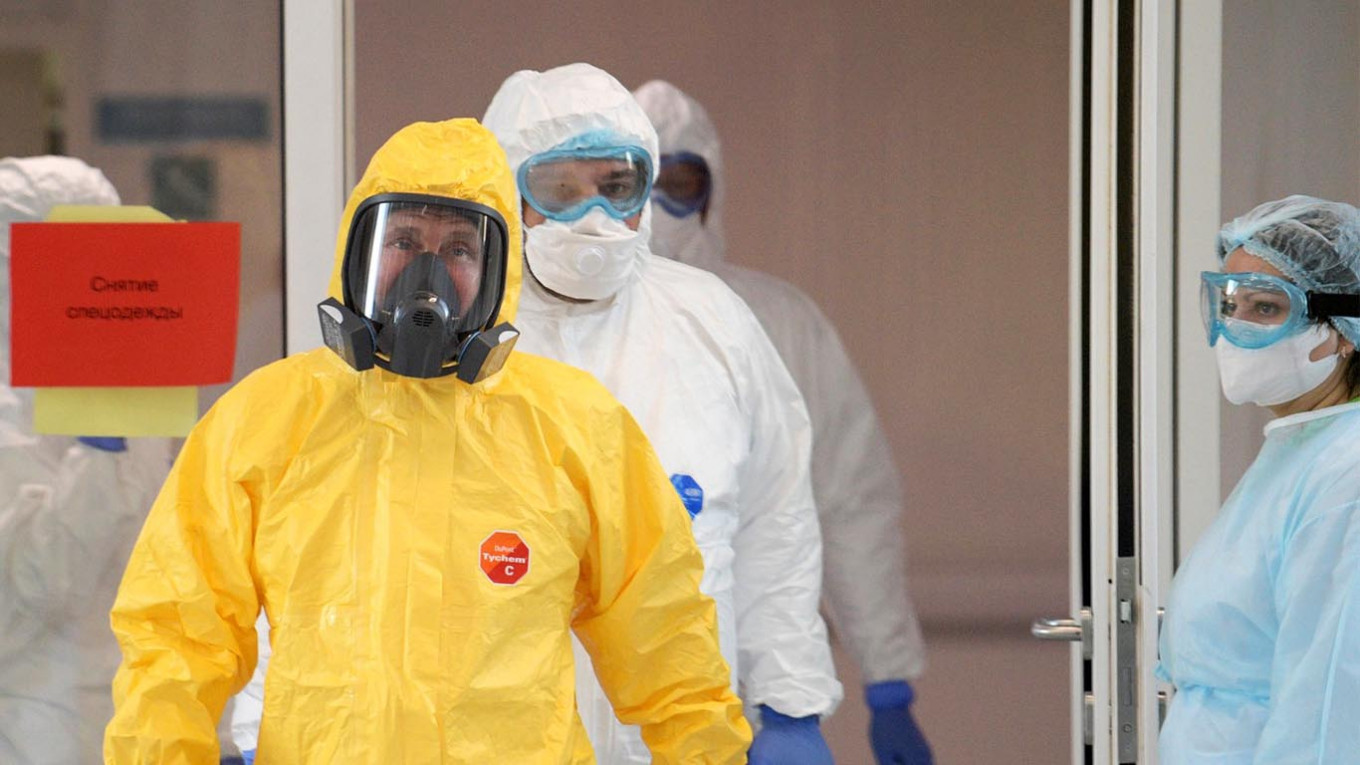Coverall: (91, 116, 636, 765), (483, 72, 826, 432)
Gloves: (1189, 249, 1329, 349)
Goggles: (518, 134, 651, 221)
with_mask: (326, 202, 524, 377), (515, 183, 659, 306), (1206, 323, 1332, 421)
